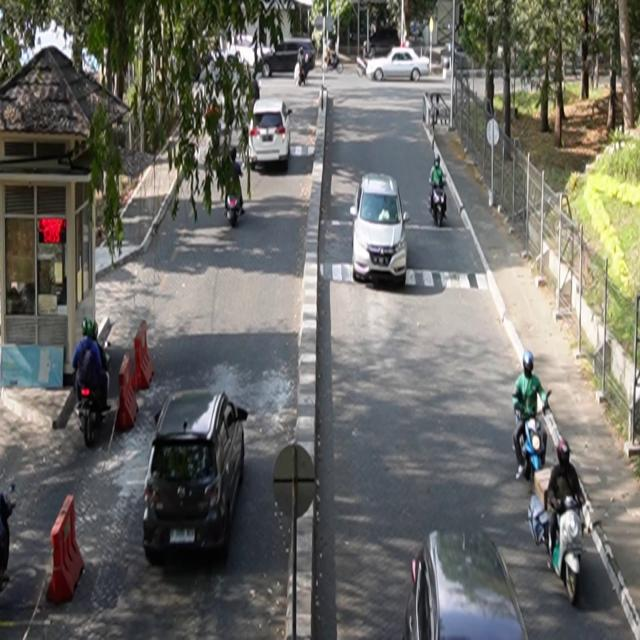car: (143, 389, 249, 565), (404, 529, 531, 640), (351, 172, 411, 286), (248, 98, 294, 172), (366, 47, 432, 83)
